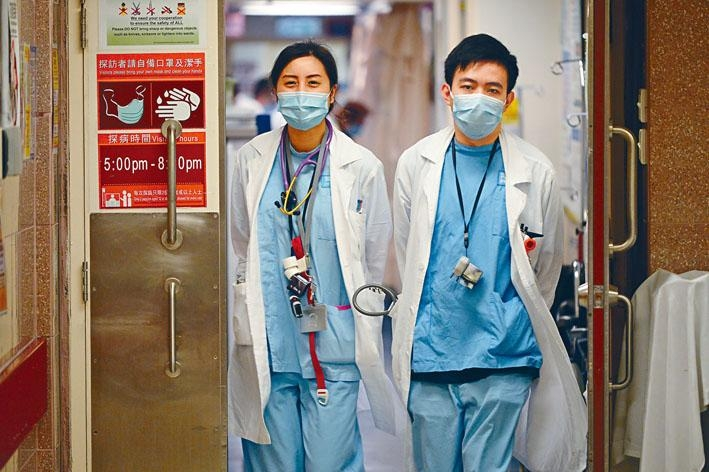mask: (450, 93, 504, 141), (276, 92, 329, 130)
